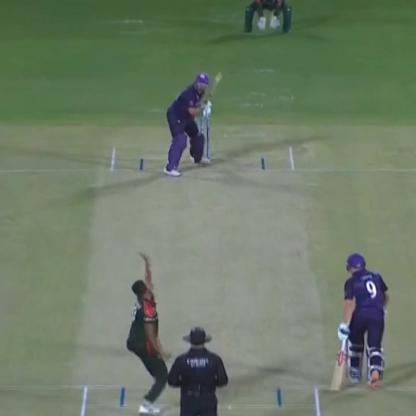bat: (330, 329, 348, 397), (202, 70, 220, 116)
pitch: (78, 147, 317, 416)
